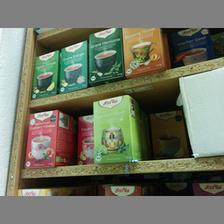Tee: (92, 93, 144, 161), (23, 108, 72, 168), (88, 28, 124, 78), (57, 40, 87, 88), (29, 50, 57, 98)
